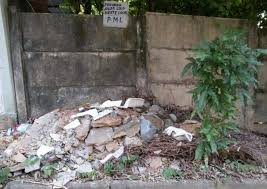rubble: (10, 93, 242, 176)
